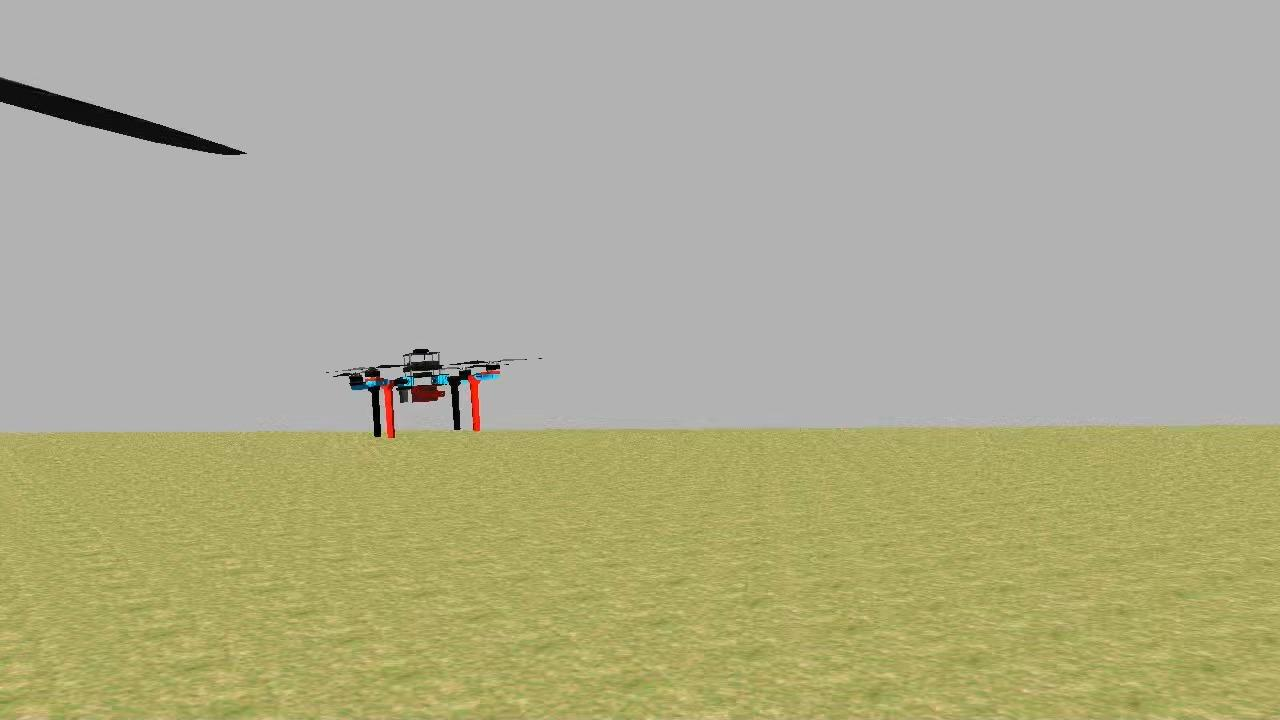UAV: (342, 340, 506, 444)
